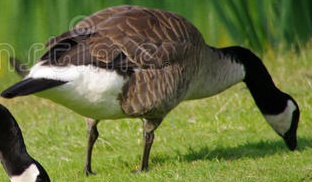goose: (1, 3, 310, 174)
